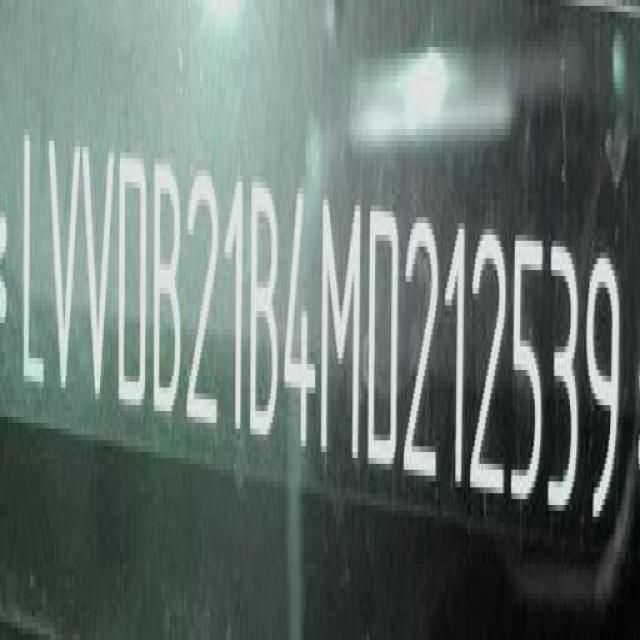1: (443, 217, 468, 496), (224, 174, 247, 442)
2: (404, 211, 443, 490), (470, 224, 508, 502), (188, 165, 224, 432)
3: (545, 241, 580, 521)
4: (286, 183, 320, 458)
5: (512, 227, 546, 509)
9: (587, 256, 623, 538)
B: (249, 175, 283, 447), (153, 158, 185, 420)
D: (367, 198, 403, 477), (117, 148, 151, 416)
L: (18, 129, 46, 397)
M: (319, 189, 366, 469)
V: (44, 130, 80, 400), (82, 133, 117, 408)
